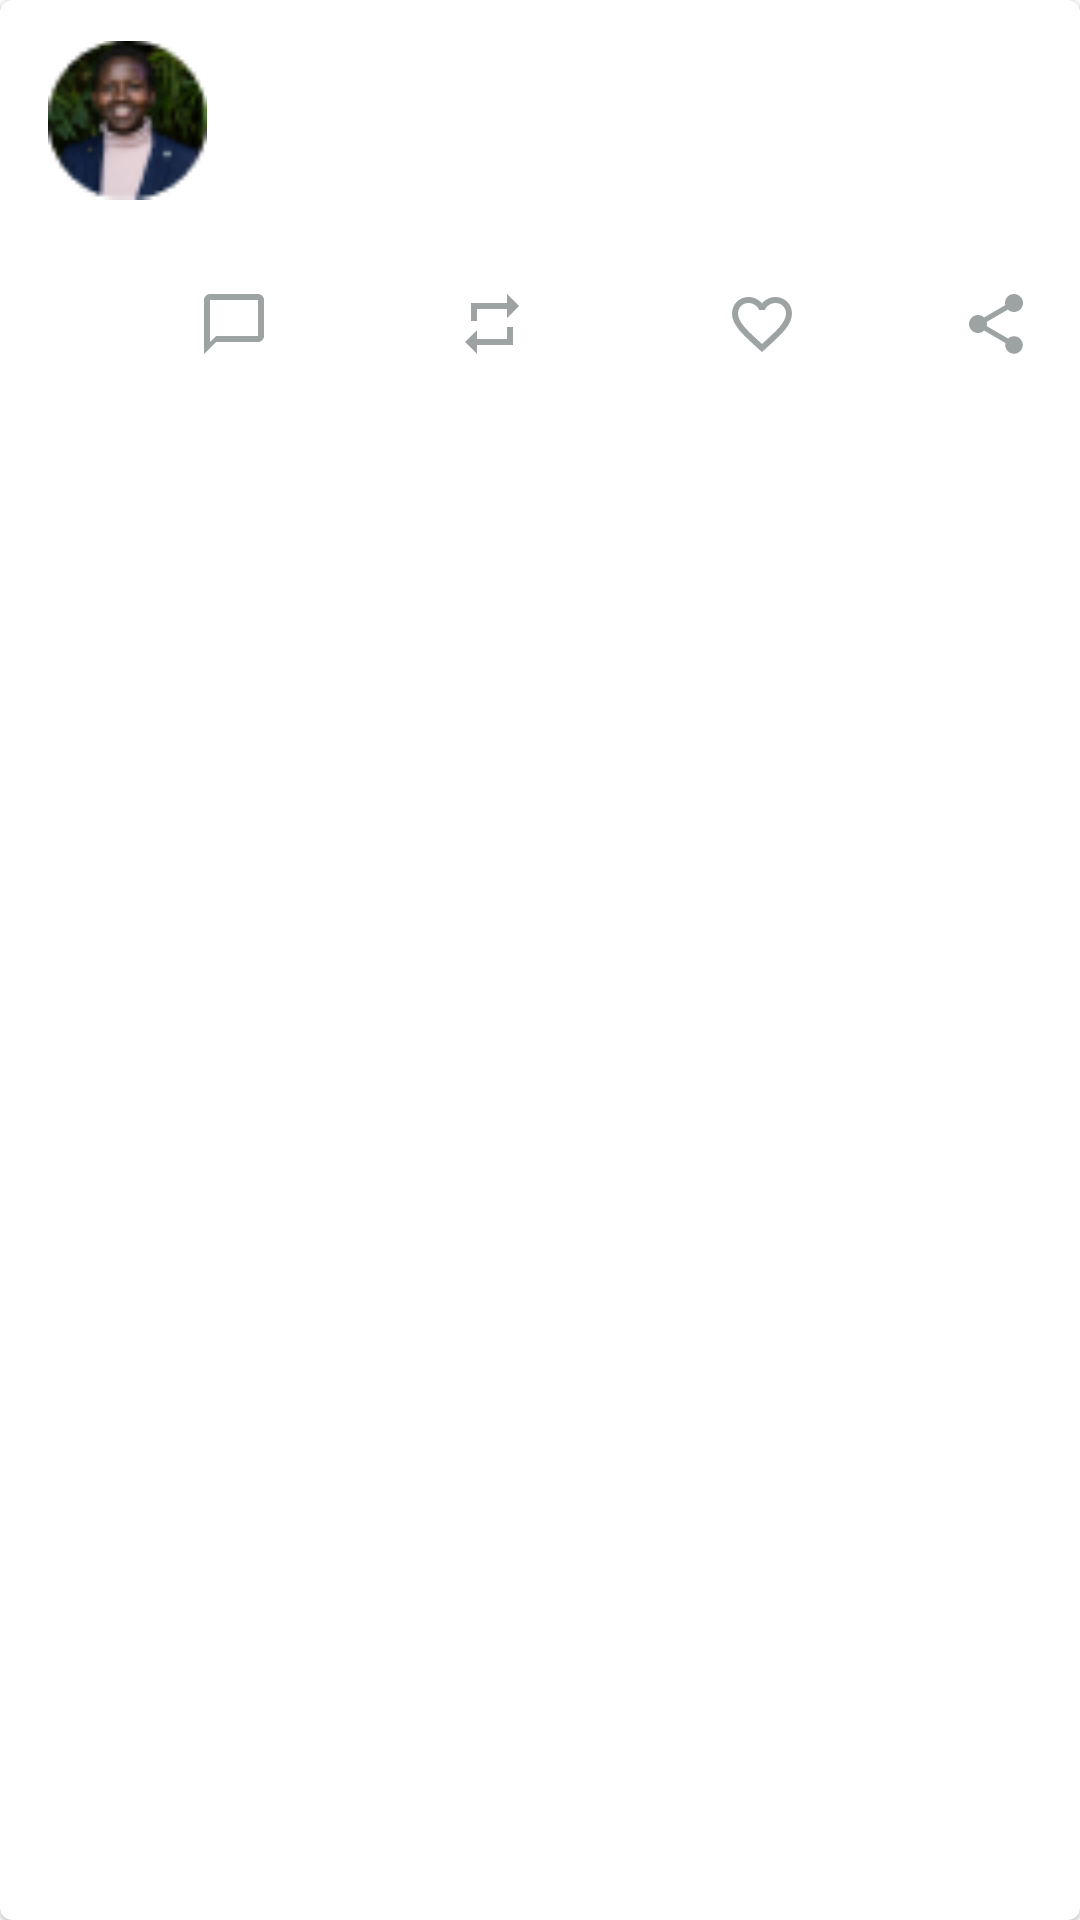

Icons on this 1080 × 1920 Android screen, each with the point to tap as (x=x, y=y):
chat bubble: (x=234, y=324)
favorite border: (x=762, y=324)
person: (x=127, y=120)
repeat: (x=492, y=324)
share: (x=996, y=324)
